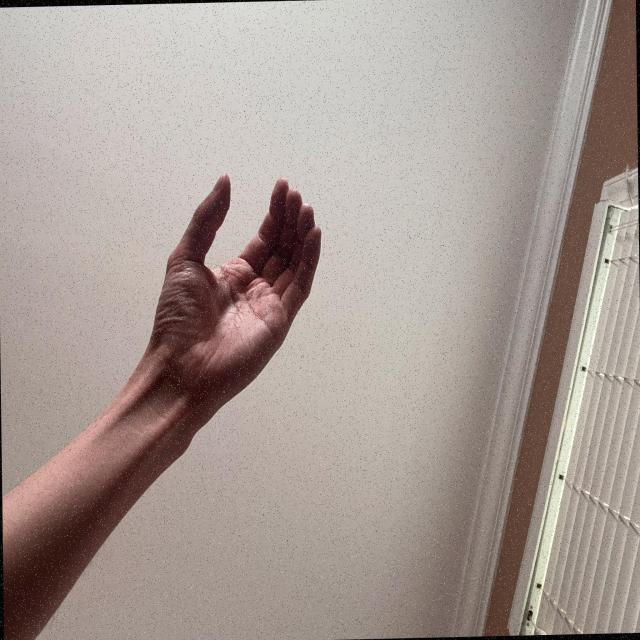C: (280, 405, 494, 640)
